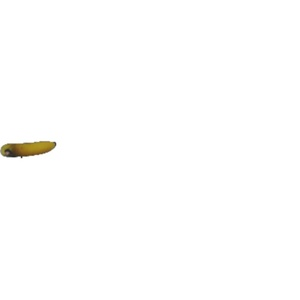banana: (1, 131, 59, 174)
